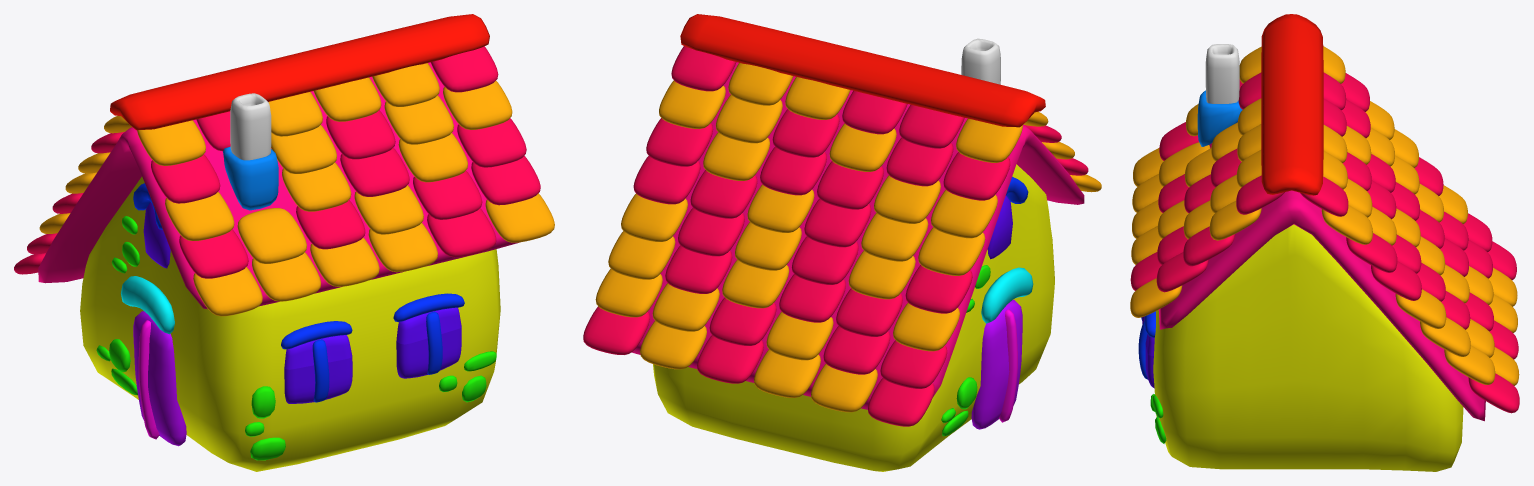
File: maison berger.fbx
The picture shows the model from 3 angles, left to right: view 1: azimuth 30°, elevation 25°; view 2: azimuth 150°, elevation 25°; view 3: azimuth 270°, elevation 25°; orthographic projection. The views are drawn at different scales.
Visible parts, largest first — view 1: CORPS; view 2: CORPS; view 3: CORPS.
Boxes of the visible parts, bbox=[...] form: CORPS: bbox=[14, 14, 554, 471]; CORPS: bbox=[583, 14, 1101, 471]; CORPS: bbox=[1130, 14, 1519, 471].
Bounding box in the file's own units: 462 × 440 × 456.
